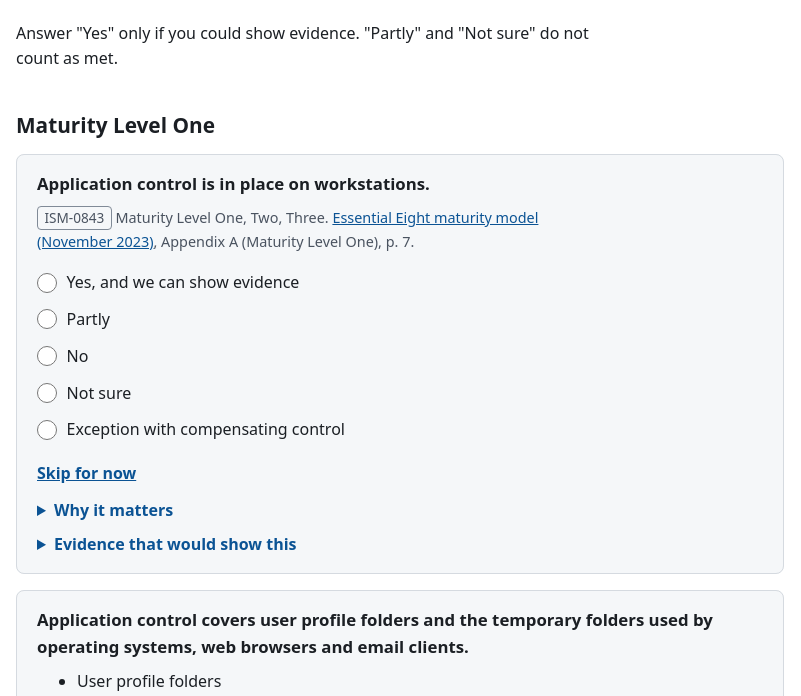
Test case: skipping and partial results (D30, D32) › offers results at any time and labels an incomplete headline
The image size is (801, 696).
(page scrolled)
Click the radio button labelled "No" at {"x": 47, "y": 356}, box [37,346,57,366]
(page scrolled)
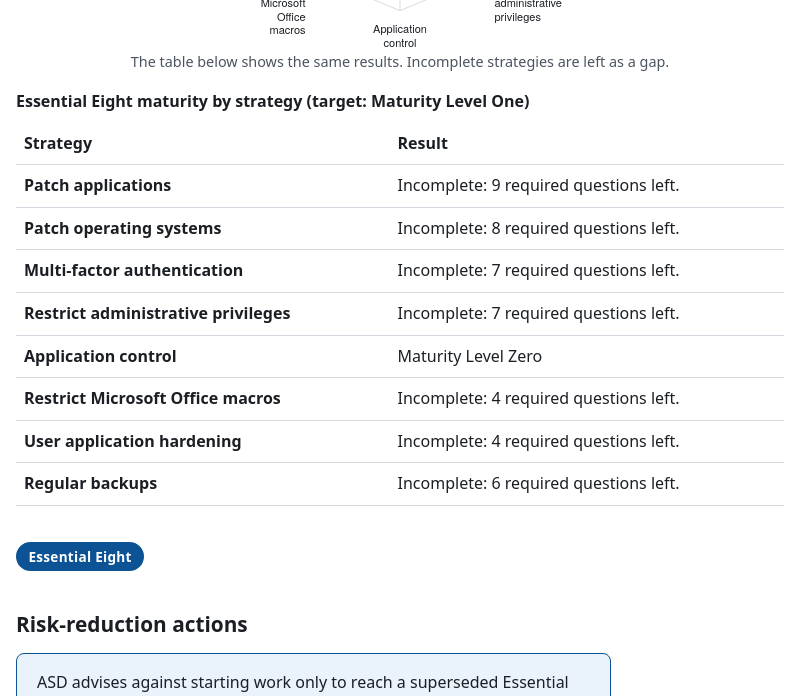
expect the row "Patch applications Incomplete: 9 required questions left." is shown: met, box [16,165,784,207]
expect the row "Application control Maturity Level Zero" is shown: met, box [16,335,784,378]
